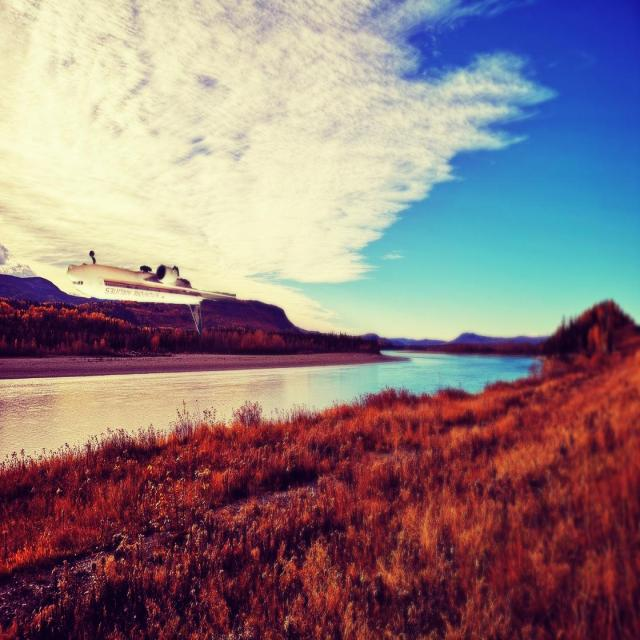airplane: (66, 250, 239, 335)
